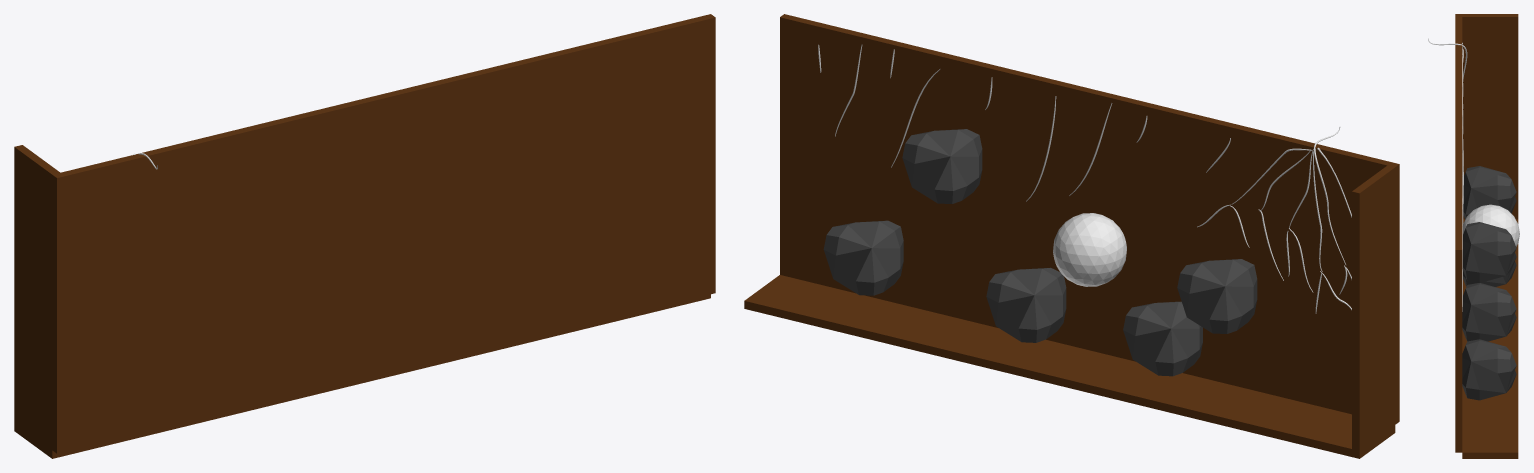
File: Dirt_Platform_End.fbx
The picture shows the model from 3 angles, left to right: view 1: azimuth 30°, elevation 25°; view 2: azimuth 150°, elevation 25°; view 3: azimuth 270°, elevation 25°; orthographic projection. The views are drawn at different scales.
Visible parts, largest first — view 1: Cube.001, Cube; view 2: Cube.001, Cube, Cube.003, Cube.002, Cube.005, Cube.004, Cube.006, Icosphere, BezierCurve; view 3: Cube, Cube.001, Cube.004, Cube.005, Cube.002, Cube.003, Icosphere, BezierCurve, Cube.006.
Boxes of the visible parts, box(x1,y1,x2,y2) form: Cube.001: box(14, 14, 715, 458); Cube: box(14, 145, 59, 449); Cube.001: box(744, 14, 1399, 458); Cube: box(1352, 165, 1395, 450); Cube.003: box(1177, 259, 1257, 333); Cube.002: box(986, 267, 1066, 342); Cube.005: box(902, 129, 982, 203); Cube.004: box(823, 220, 903, 295); Cube.006: box(1123, 301, 1202, 376); Icosphere: box(1053, 213, 1126, 286); BezierCurve: box(818, 44, 1351, 313); Cube: box(1462, 14, 1518, 219); Cube.001: box(1455, 14, 1518, 458); Cube.004: box(1462, 339, 1516, 400); Cube.005: box(1463, 222, 1516, 282); Cube.002: box(1462, 283, 1516, 341); Cube.003: box(1463, 166, 1516, 219); Icosphere: box(1463, 204, 1519, 246); BezierCurve: box(1428, 38, 1467, 311); Cube.006: box(1463, 256, 1516, 286).
Size of the model in its own units: 2000 by 843 by 329.
